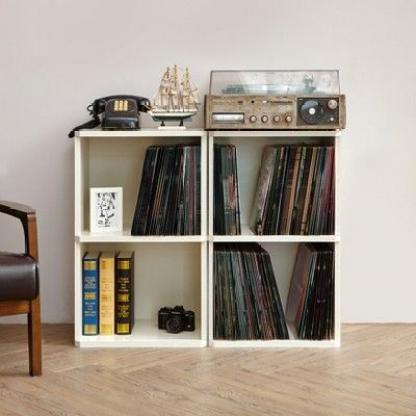lamp: (73, 128, 341, 349)
